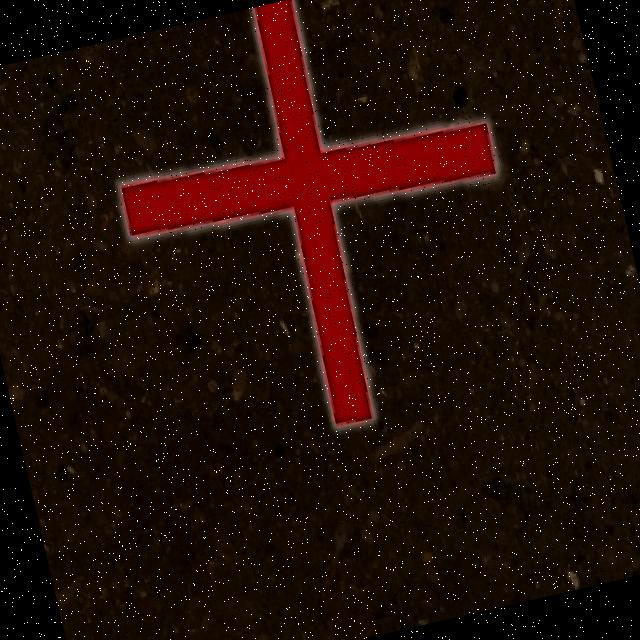x_marker: (85, 0, 543, 461)
